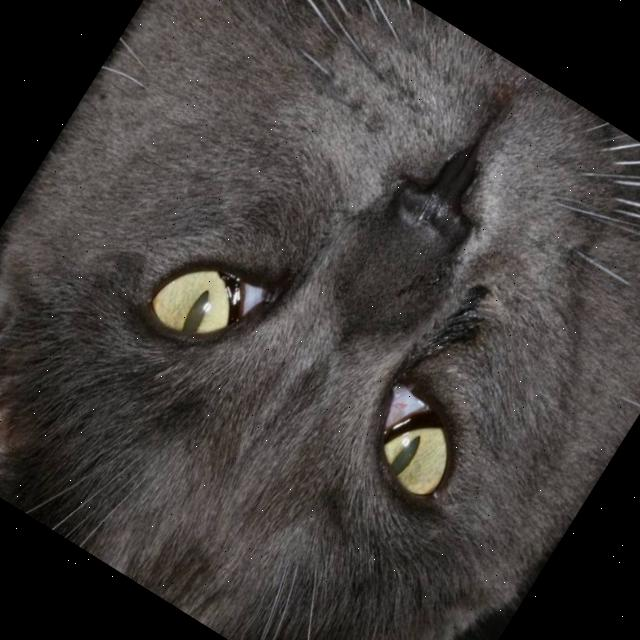cat-eye: (310, 284, 544, 540), (121, 185, 320, 392)
